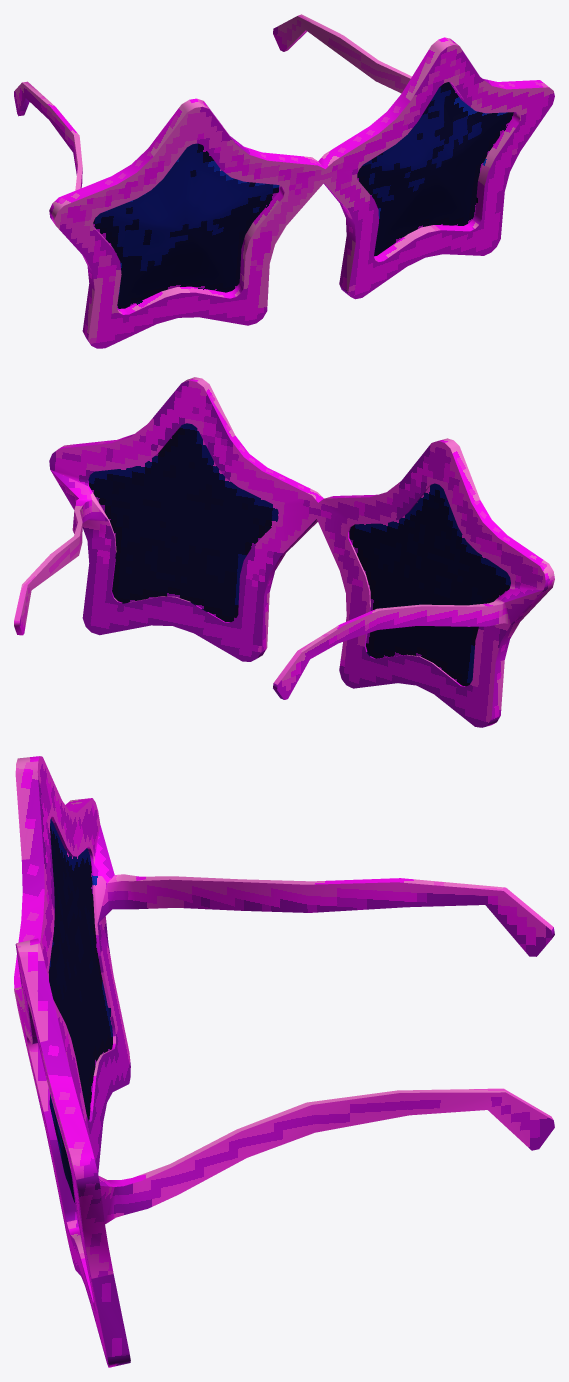
File: wear_stars.glb
3 views of the same model, one above another, from view 1: azimuth 30°, elevation 25°; view 2: azimuth 150°, elevation 25°; view 3: azimuth 270°, elevation 25° (orthographic). The views are drawn at different scales.
Parts seen in each view (by area): view 1: mesh; view 2: mesh; view 3: mesh.
Boxes of the visible parts, x1,y1,x2,y2 form: mesh: [14, 14, 554, 348]; mesh: [14, 377, 554, 727]; mesh: [14, 756, 554, 1367].
Size of the model in its own units: 0.1454 by 0.07 by 0.0907.
Materials: 1 (1 with a texture image).
